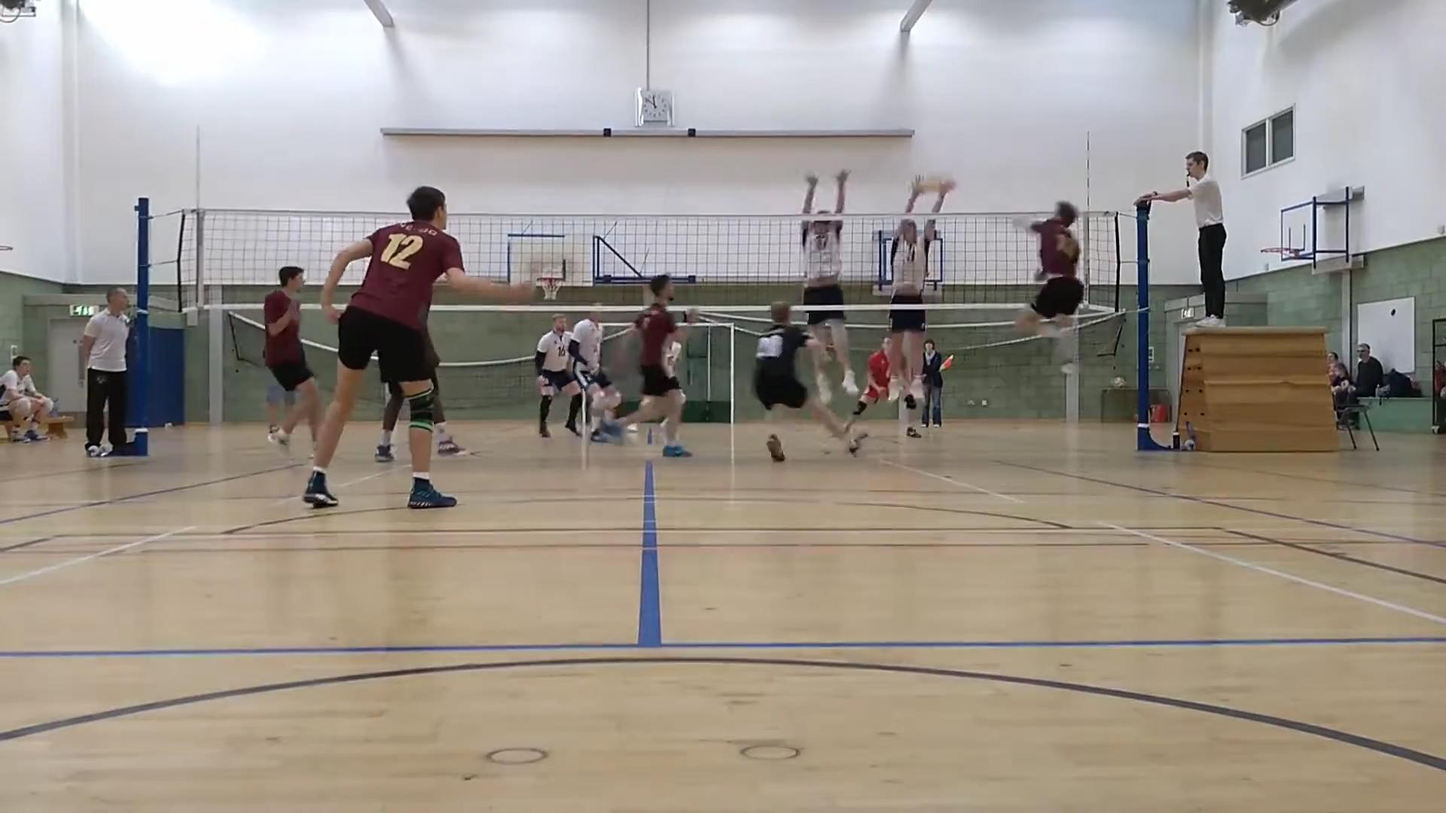Attack: (996, 190, 1086, 341)
Block: (877, 162, 956, 449), (800, 159, 864, 407)
Player: (304, 187, 531, 508), (754, 302, 864, 453), (602, 275, 691, 457), (264, 266, 320, 446), (569, 309, 621, 441), (422, 312, 464, 455), (534, 315, 582, 437), (847, 336, 892, 427), (266, 381, 295, 435)
